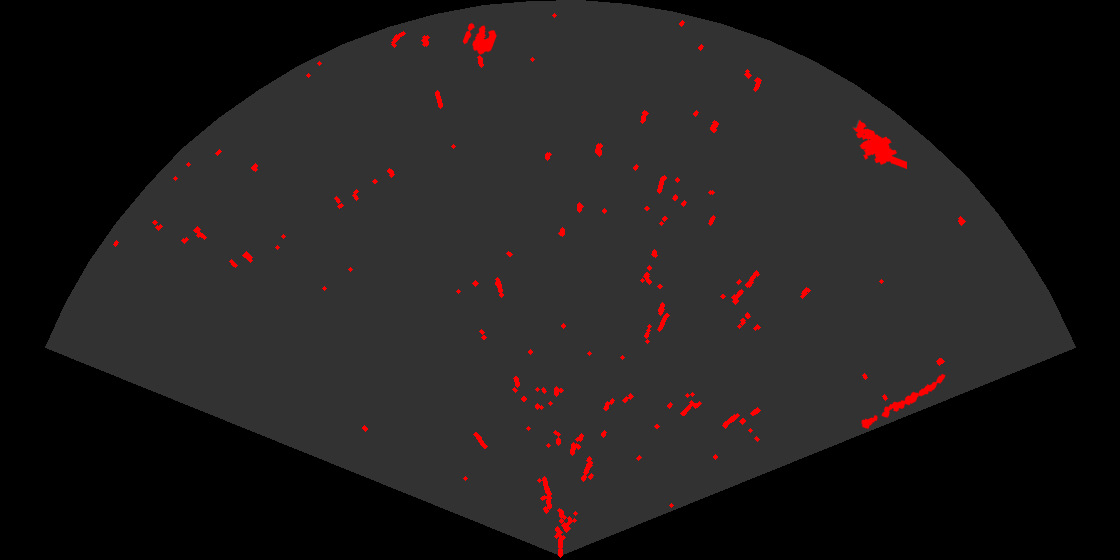ball: (461, 21, 498, 56)
chain: (859, 372, 947, 430)
frogman: (851, 119, 907, 171)
